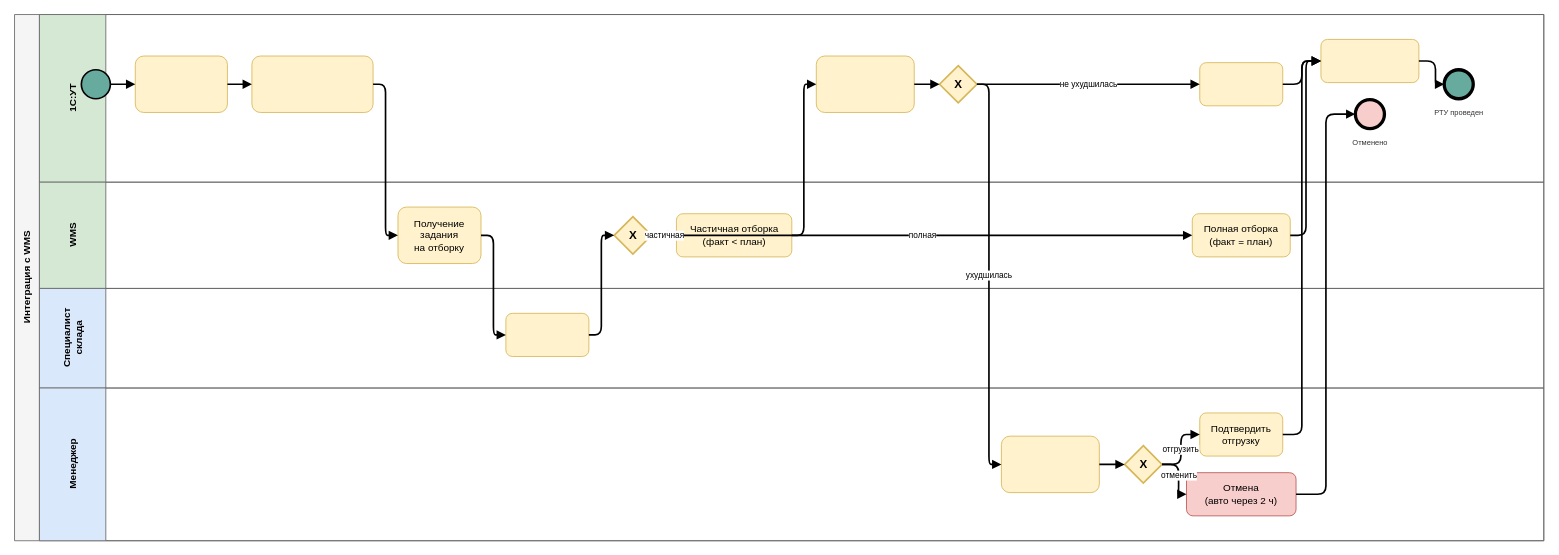
Some shapes in this 1559 by 555 pixel diagram are drawn without their labels. Each missing label, with the centre of its shape:
"Запрос решения менеджера (SLA 2 часа)" belongs at pixel 1050 464.
"Отборка товара" belongs at pixel 547 334.
"Отгрузка по факту" belongs at pixel 1241 84.
"Отправка JSON с заказом в WMS" belongs at pixel 180 83.
"Пересчет рентабельности по факту" belongs at pixel 864 83.
"Создание и проведение РТУ" belongs at pixel 1369 61.
"Установка флага ПереданНаСклад (точка невозврата)" belongs at pixel 312 83.
